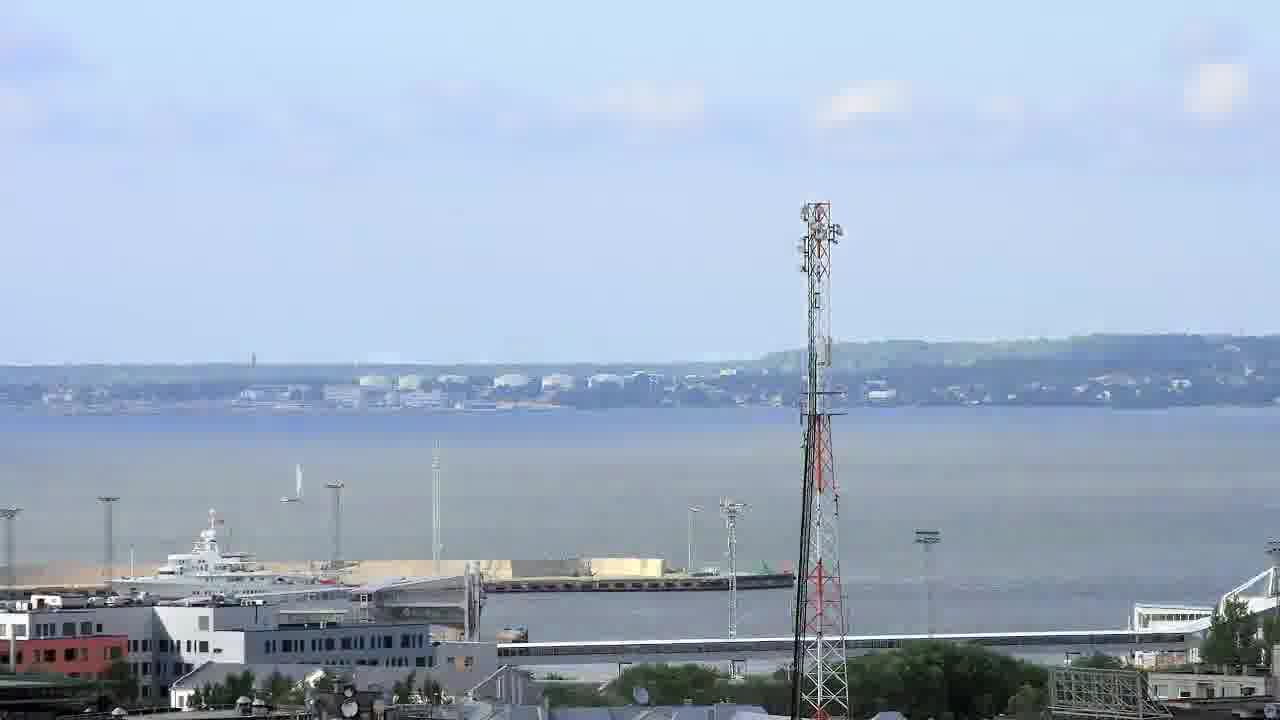type-2: (277, 448, 322, 512)
type-3: (84, 515, 355, 603)
